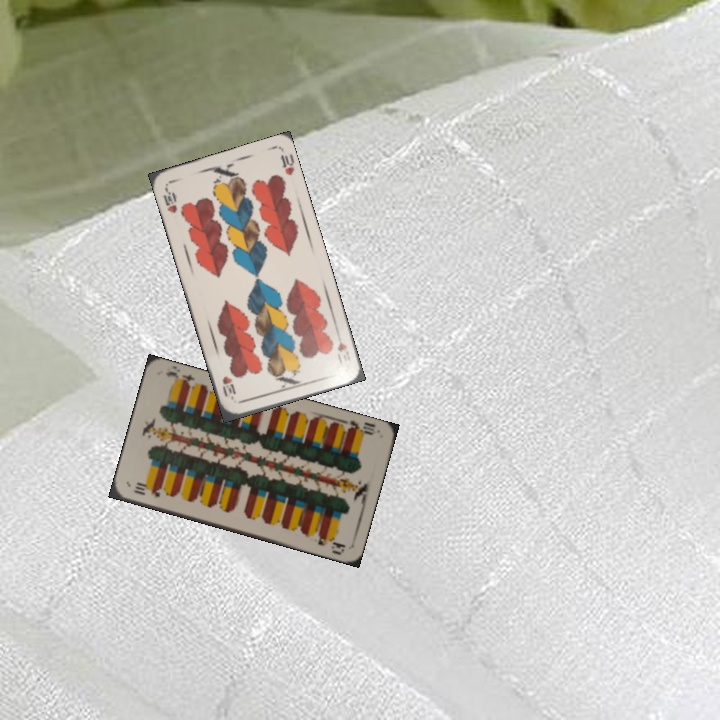E10: (341, 416, 381, 438), (130, 480, 163, 500)
H10: (159, 184, 180, 216), (333, 338, 353, 367)
